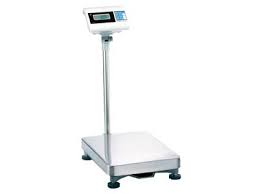Industrial Scale: (81, 7, 182, 188)
